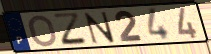2: (115, 9, 145, 44)
4: (147, 6, 171, 43), (177, 6, 199, 40)
N: (83, 11, 117, 45)
O: (28, 14, 60, 48)
Z: (52, 11, 90, 47)
